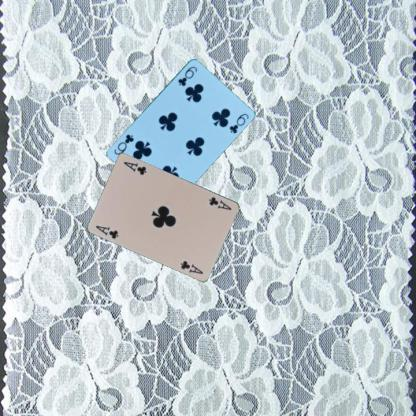6c: (175, 63, 199, 88)
Ac: (93, 222, 120, 240), (206, 194, 233, 211)
